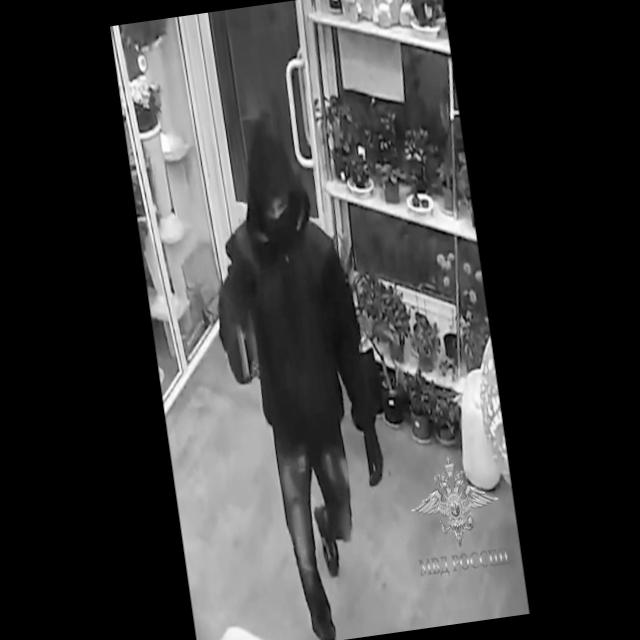gun: (223, 293, 260, 382)
person with a gun: (196, 130, 402, 634)
